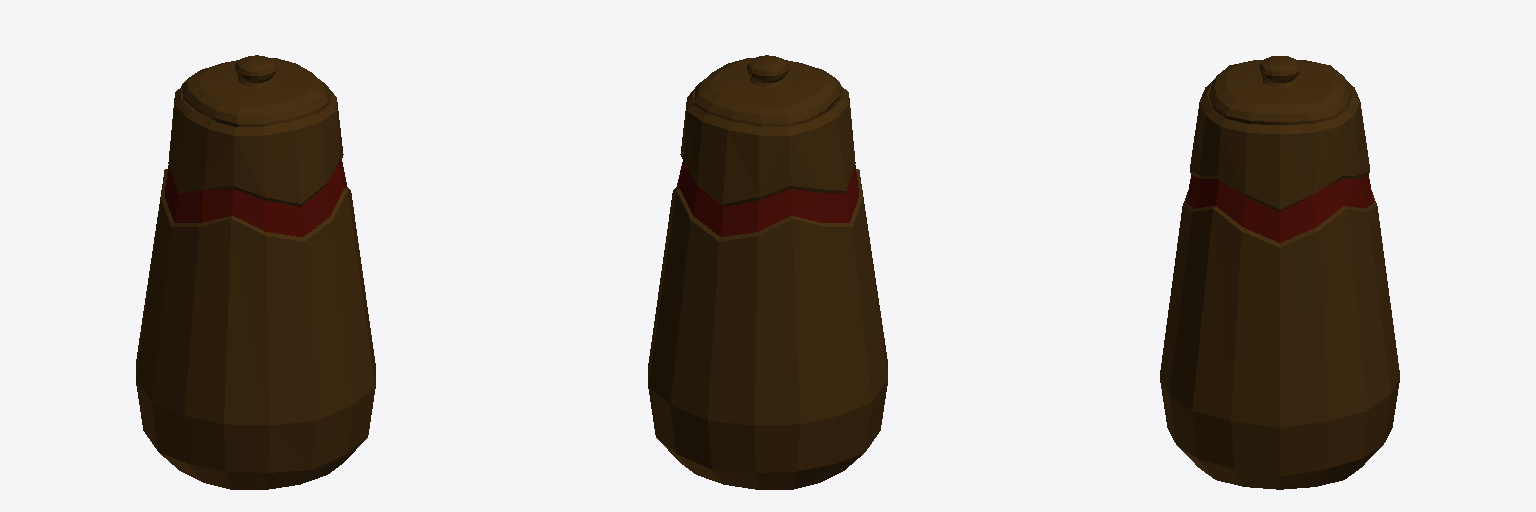
File: Pot3.obj
3 views of the same model, side by side, from view 1: azimuth 30°, elevation 25°; view 2: azimuth 150°, elevation 25°; view 3: azimuth 270°, elevation 25° (orthographic).
Visible parts, largest first — view 1: Pot3_Cube.104; view 2: Pot3_Cube.104; view 3: Pot3_Cube.104.
Boxes of the visible parts, x1=… form: Pot3_Cube.104: x1=136, y1=55, x2=375, y2=489; Pot3_Cube.104: x1=648, y1=55, x2=887, y2=489; Pot3_Cube.104: x1=1160, y1=56, x2=1399, y2=489.
Size of the model in its own units: 0.4633 by 0.8353 by 0.4633.